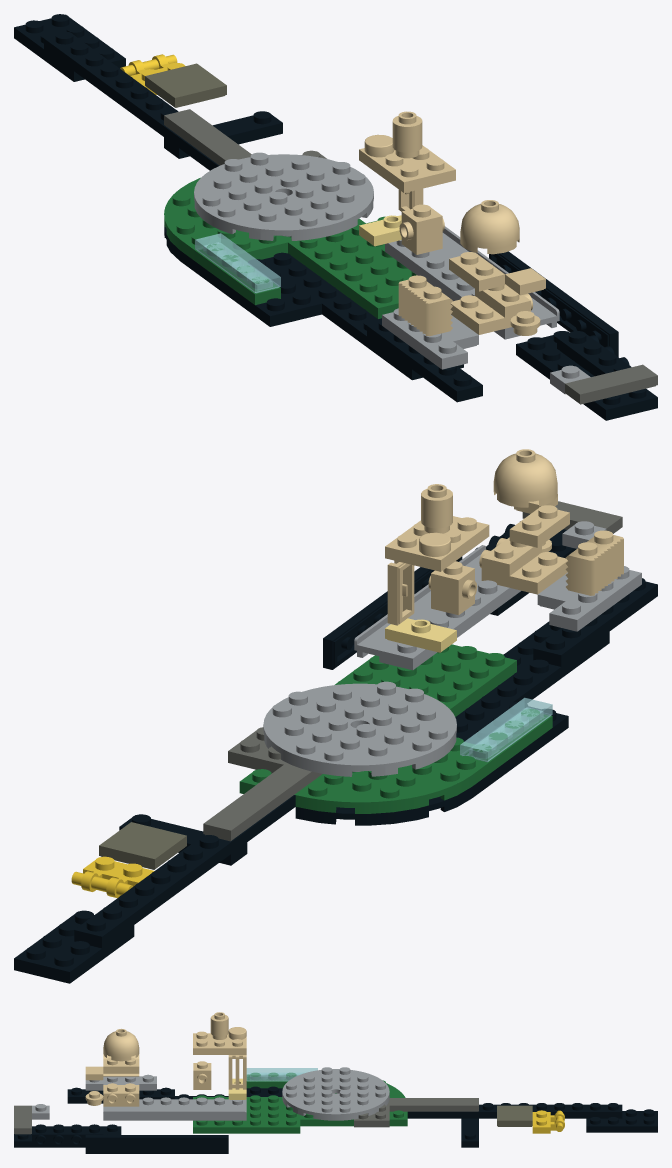
The model's file is Shanghai_2.dae.
3 renders of one model, top to bottom at view 1: azimuth 30°, elevation 25°; view 2: azimuth 150°, elevation 25°; view 3: azimuth 270°, elevation 25°, orthographic. The views are drawn at different scales.
Visible parts, largest first — view 1: Untitled_133, Untitled_012, Untitled_001, Untitled_083, Untitled_003, Untitled_096, Untitled_011, Untitled_004, Untitled_077, Untitled_038, Untitled_058, Untitled_043 (+20 smaller); view 2: Untitled_133, Untitled_003, Untitled_001, Untitled_012, Untitled_096, Untitled_011, Untitled, Untitled_002, Untitled_038, Untitled_077, Untitled_043, Untitled_018 (+18 smaller); view 3: Untitled_133, Untitled_096, Untitled_101, Untitled_012, Untitled_001, Untitled_083, Untitled, Untitled_002, Untitled_058, Untitled_043, Untitled_003, Untitled_038 (+17 smaller).
Part boxes in pixels (bbox=[...]): Untitled_133: bbox=[194, 152, 373, 240]; Untitled_012: bbox=[288, 216, 416, 318]; Untitled_001: bbox=[44, 31, 219, 170]; Untitled_083: bbox=[516, 331, 657, 420]; Untitled_003: bbox=[164, 177, 365, 271]; Untitled_096: bbox=[385, 226, 559, 339]; Untitled_011: bbox=[262, 252, 463, 380]; Untitled_004: bbox=[180, 250, 321, 326]; Untitled_077: bbox=[367, 319, 482, 402]; Untitled_038: bbox=[450, 284, 533, 334]; Untitled_058: bbox=[359, 145, 455, 192]; Untitled_043: bbox=[460, 200, 519, 254]; Untitled_133: bbox=[263, 681, 456, 776]; Untitled_003: bbox=[239, 737, 504, 813]; Untitled_001: bbox=[74, 795, 295, 948]; Untitled_012: bbox=[335, 644, 516, 716]; Untitled_096: bbox=[354, 545, 521, 670]; Untitled_011: bbox=[455, 621, 609, 738]; Untitled: bbox=[14, 910, 134, 983]; Untitled_002: bbox=[203, 763, 321, 841]; Untitled_038: bbox=[479, 537, 567, 594]; Untitled_077: bbox=[533, 578, 657, 666]; Untitled_043: bbox=[493, 449, 557, 507]; Untitled_018: bbox=[565, 530, 623, 595]; Untitled_133: bbox=[282, 1067, 389, 1120]; Untitled_096: bbox=[103, 1097, 246, 1120]; Untitled_101: bbox=[85, 1135, 228, 1153]; Untitled_012: bbox=[193, 1095, 300, 1133]; Untitled_001: bbox=[407, 1103, 622, 1118]; Untitled_083: bbox=[14, 1124, 121, 1147]; Untitled: bbox=[586, 1109, 657, 1132]; Untitled_002: bbox=[387, 1098, 478, 1111]; Untitled_058: bbox=[193, 1031, 246, 1054]; Untitled_043: bbox=[103, 1028, 139, 1061]; Untitled_003: bbox=[300, 1080, 407, 1126]; Untitled_038: bbox=[103, 1083, 139, 1106].
Bounding box in the file's own units: 0.0704 × 0.0546 × 0.288.
